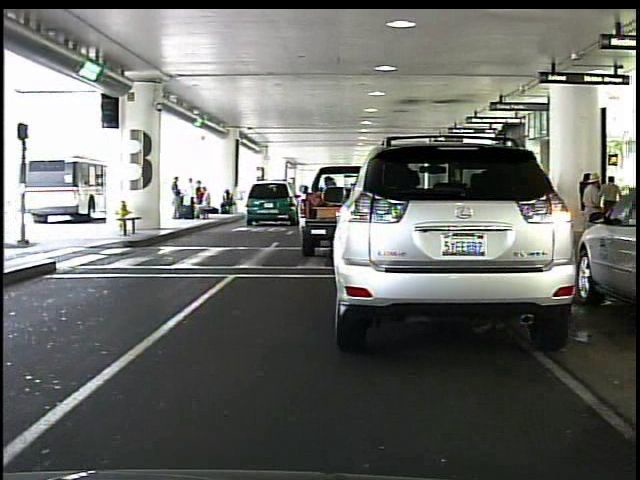person: (579, 169, 608, 254), (602, 174, 624, 233), (165, 171, 186, 223)
